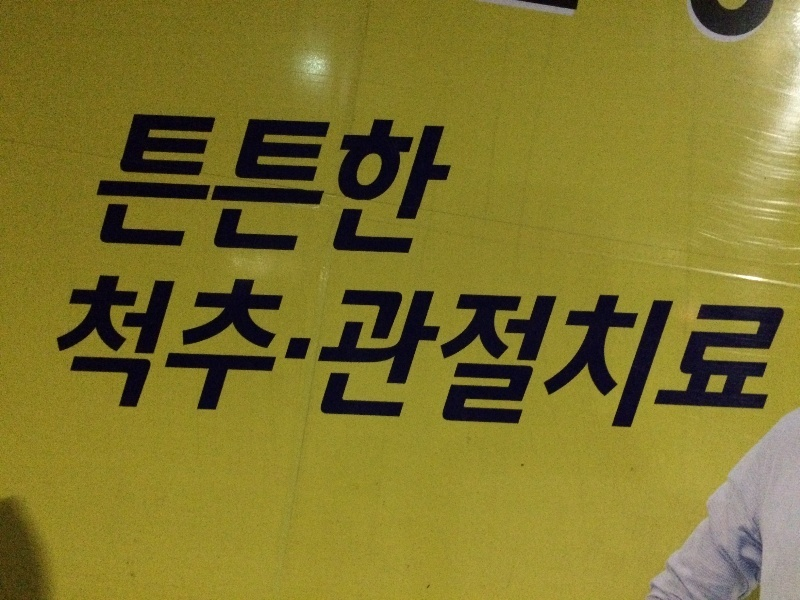text: (65, 268, 80, 442), (81, 268, 96, 442), (97, 268, 112, 442), (113, 268, 128, 442), (129, 268, 144, 442), (145, 268, 160, 442), (161, 268, 176, 442), (177, 268, 192, 442), (193, 268, 208, 442), (209, 268, 224, 442), (225, 268, 240, 442), (241, 268, 256, 442), (257, 268, 272, 442), (273, 268, 288, 442), (289, 268, 304, 442), (305, 268, 320, 442), (321, 268, 336, 442), (337, 268, 352, 442), (353, 268, 368, 442), (369, 268, 384, 442), (385, 268, 400, 442), (401, 268, 416, 442), (417, 268, 432, 442), (433, 268, 448, 442), (449, 268, 464, 442), (465, 268, 480, 442), (481, 268, 496, 442), (497, 268, 512, 442), (513, 268, 528, 442), (529, 268, 544, 442), (545, 268, 560, 442), (561, 268, 576, 442), (577, 268, 592, 442), (593, 268, 608, 442), (609, 268, 624, 442), (625, 268, 640, 442), (641, 268, 656, 442), (657, 268, 672, 442), (673, 268, 688, 442), (689, 268, 704, 442), (705, 268, 720, 442), (721, 268, 736, 442), (737, 268, 752, 442), (753, 268, 768, 442), (769, 268, 784, 442), (113, 101, 128, 258), (129, 101, 144, 258), (145, 101, 160, 258), (161, 101, 176, 258), (177, 101, 192, 258), (193, 101, 208, 258), (209, 101, 224, 258), (225, 101, 240, 258), (241, 101, 256, 258), (257, 101, 272, 258), (273, 101, 288, 258), (289, 101, 304, 258), (305, 101, 320, 258), (321, 101, 336, 258), (337, 101, 352, 258), (353, 101, 368, 258), (369, 101, 384, 258), (385, 101, 400, 258), (401, 101, 416, 258), (417, 101, 432, 258), (433, 101, 448, 258), (449, 101, 464, 258), (785, 268, 791, 442), (689, 2, 704, 41), (705, 2, 720, 41), (721, 2, 736, 41), (737, 2, 752, 41), (753, 2, 768, 41), (61, 268, 64, 442), (769, 2, 782, 41), (109, 101, 112, 258), (513, 1, 528, 16), (529, 1, 544, 16), (545, 1, 560, 16), (561, 1, 576, 16), (683, 2, 688, 41), (501, 1, 512, 16), (465, 101, 466, 258), (577, 1, 582, 16)
